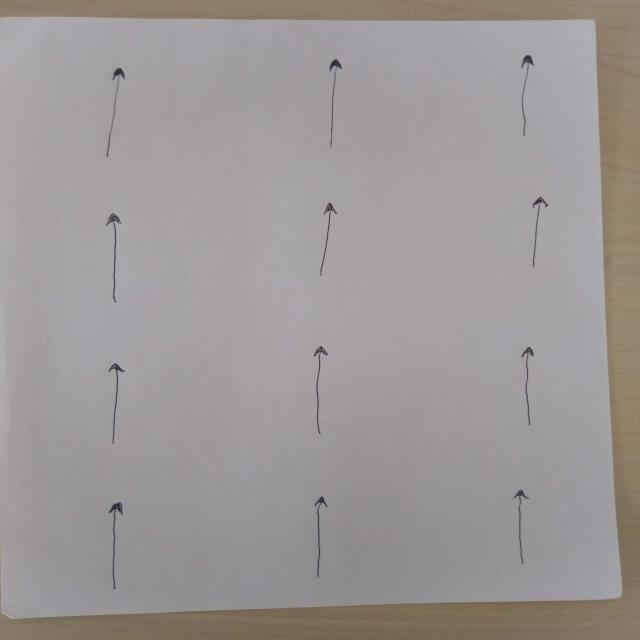arrow_line_up: (298, 342, 338, 439), (316, 54, 352, 155), (310, 489, 350, 579), (100, 356, 138, 445), (512, 53, 546, 143), (103, 498, 134, 594), (506, 487, 542, 567), (99, 66, 128, 162), (517, 346, 549, 431), (102, 211, 130, 305), (314, 200, 345, 278), (526, 197, 553, 271)
